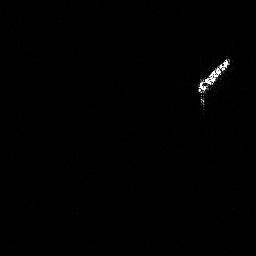ship: (196, 54, 232, 111)
